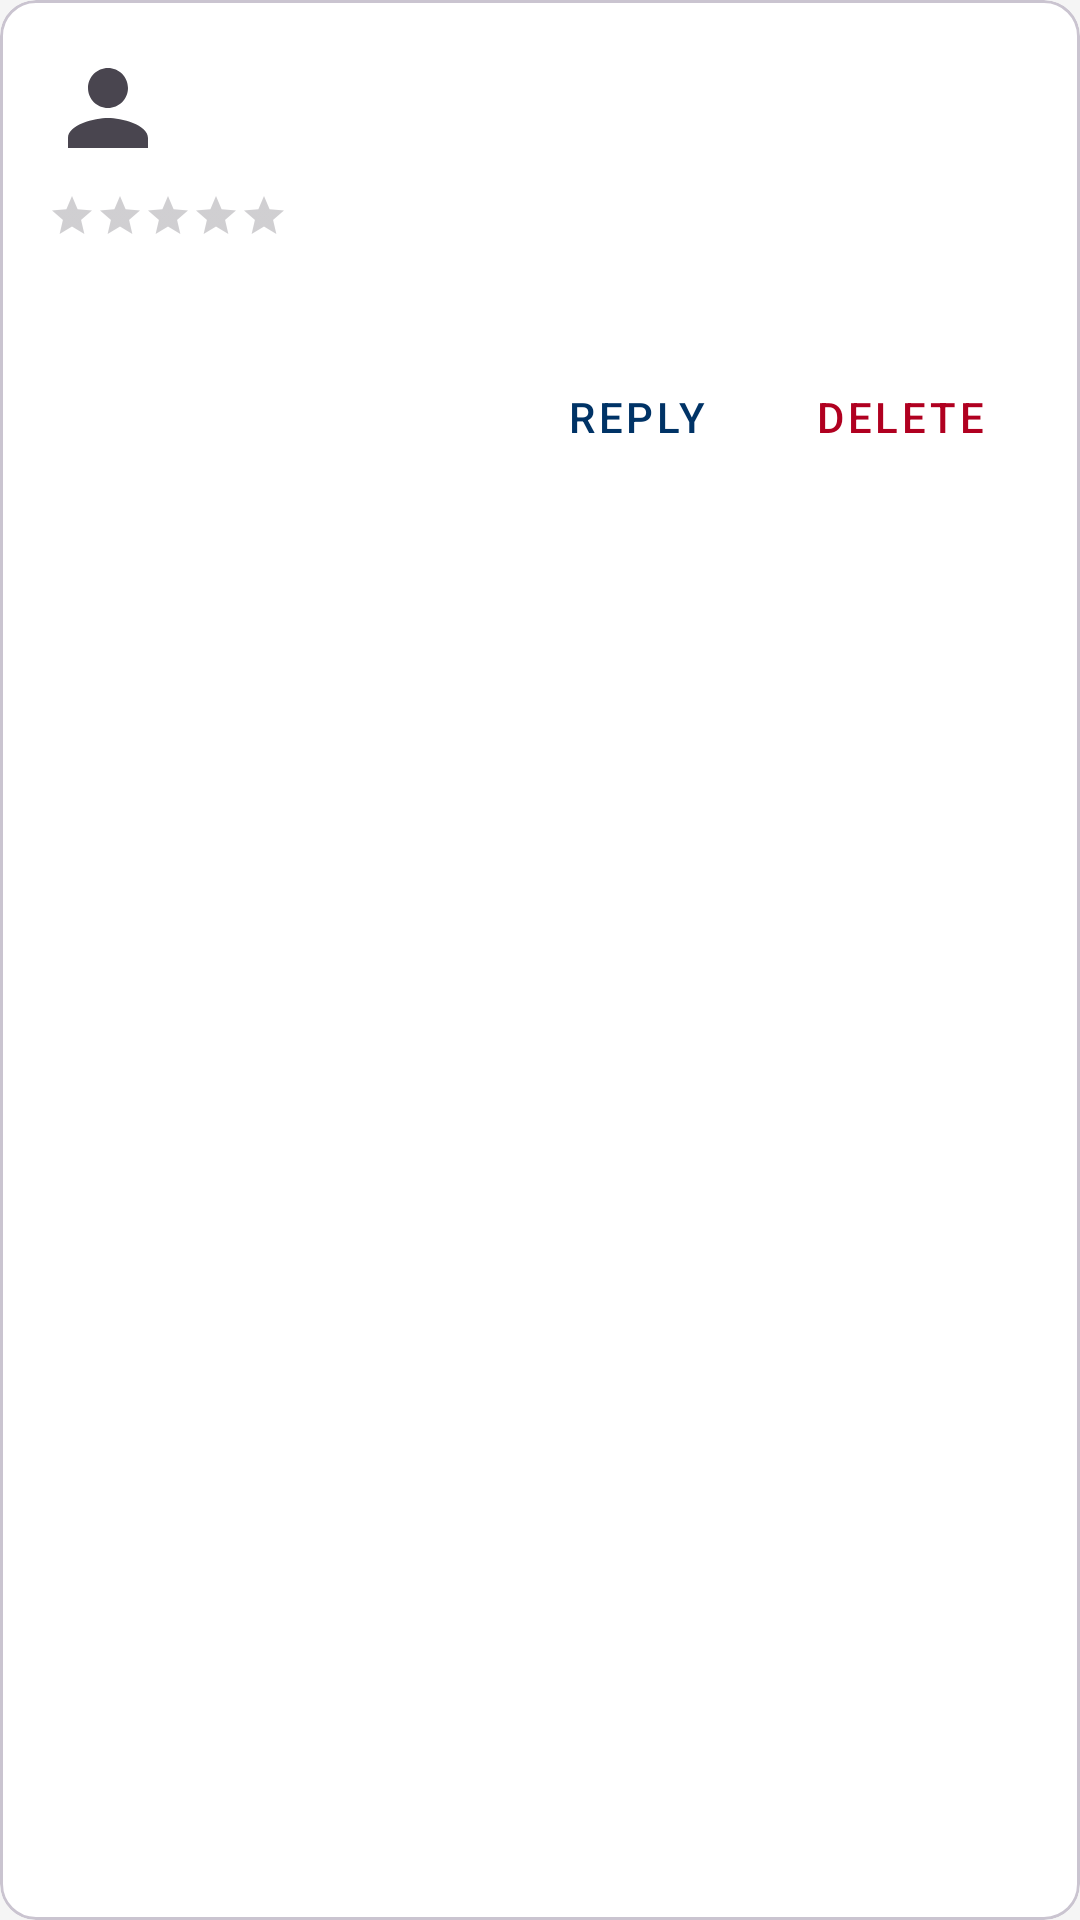

Screen size 1080px x 1920px. Icon name, then its box in pixels as (x1, y1, x2, y2):
person: (68, 68, 148, 148)
